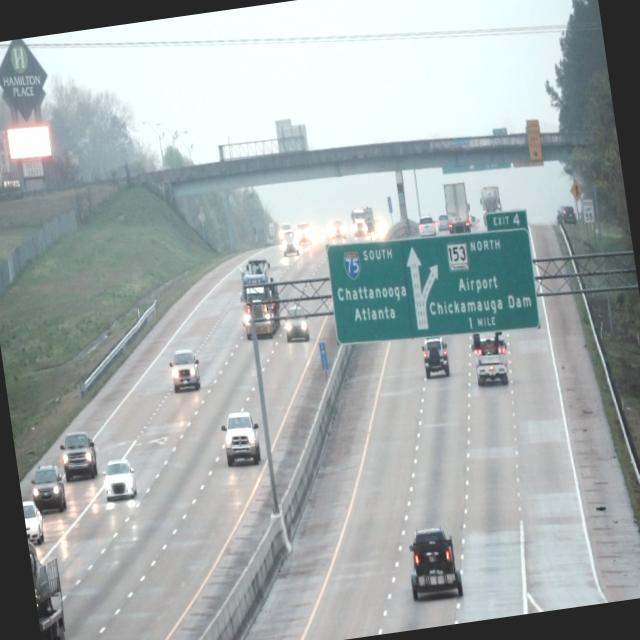Vehicle: (399, 517, 466, 606), (238, 255, 284, 341), (217, 406, 263, 470), (468, 333, 514, 392), (58, 428, 100, 484), (28, 460, 67, 516), (416, 335, 456, 383), (102, 458, 140, 504), (170, 346, 202, 398), (280, 294, 311, 346), (22, 499, 48, 544)
